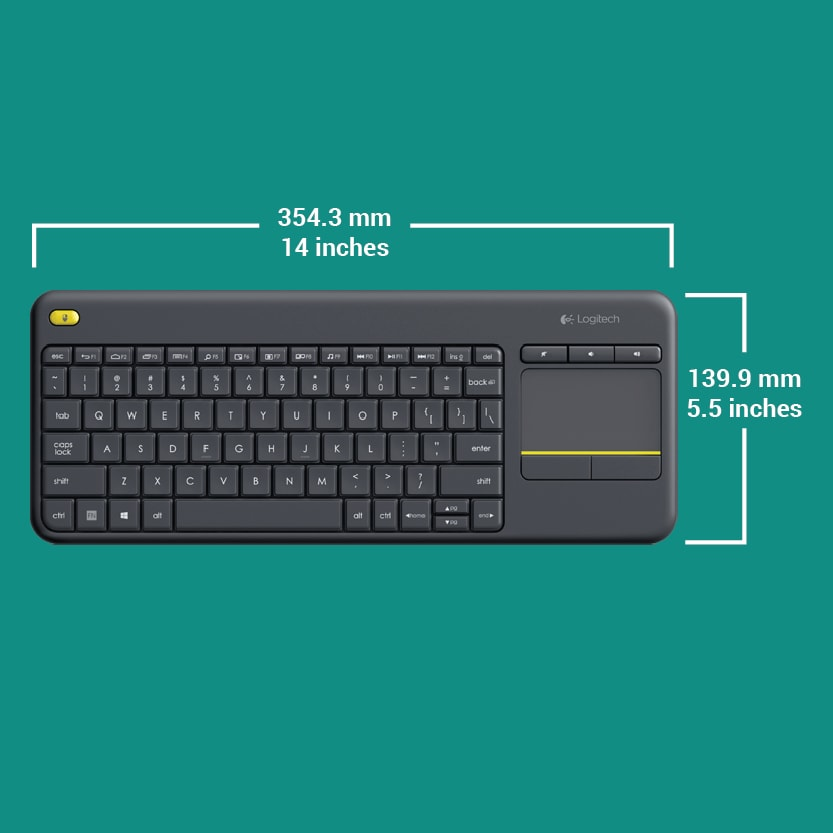logitech-keyboard-k400: (27, 292, 680, 554)
